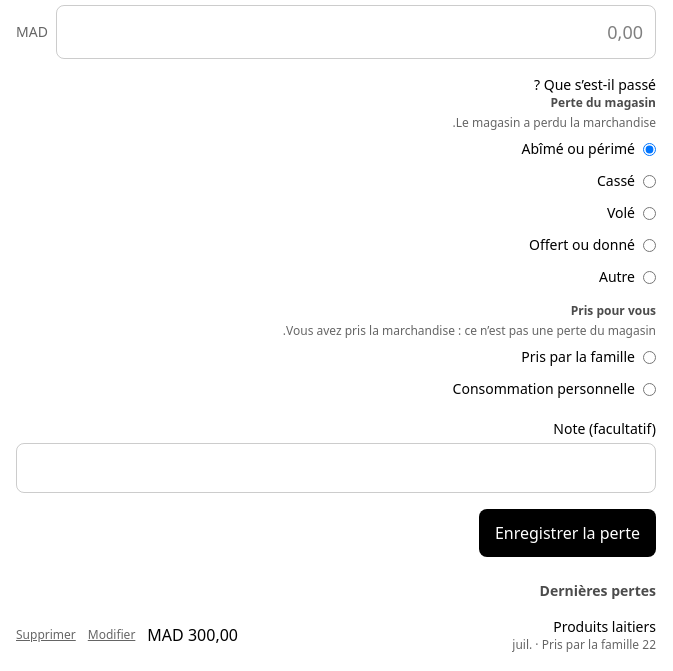
Test: editing a loss (domain-spec §8.5) › prefills the reason that was recorded, not the default
(page scrolled)
Click the button with aria-label "Modifier — Produits laitiers": [112, 635] box [88,627,135,643]
(page scrolled)
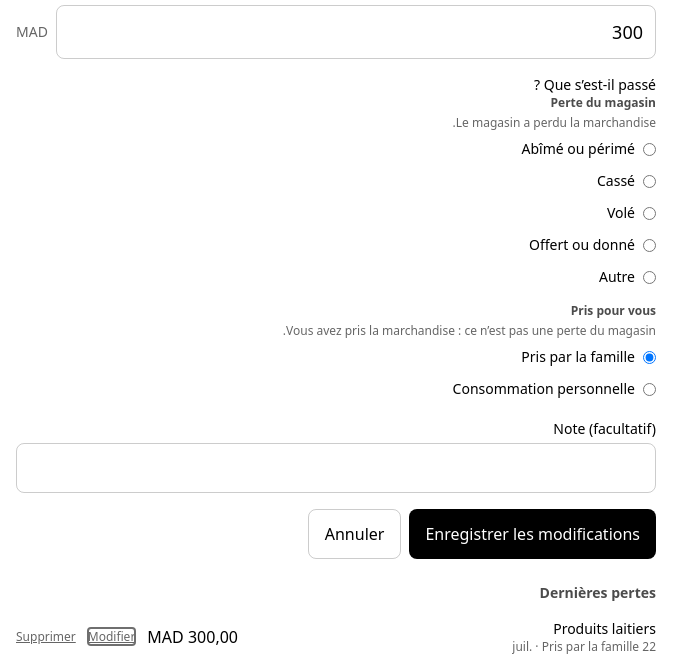
Expected: the radio button labelled "Pris par la famille" is checked, [643,350,656,364]
Expected: the radio button labelled "Abîmé ou périmé" is not checked, [643,142,656,156]
Expected: the field labelled "Montant au prix d’achat" holds "300", [56,5,656,59]
